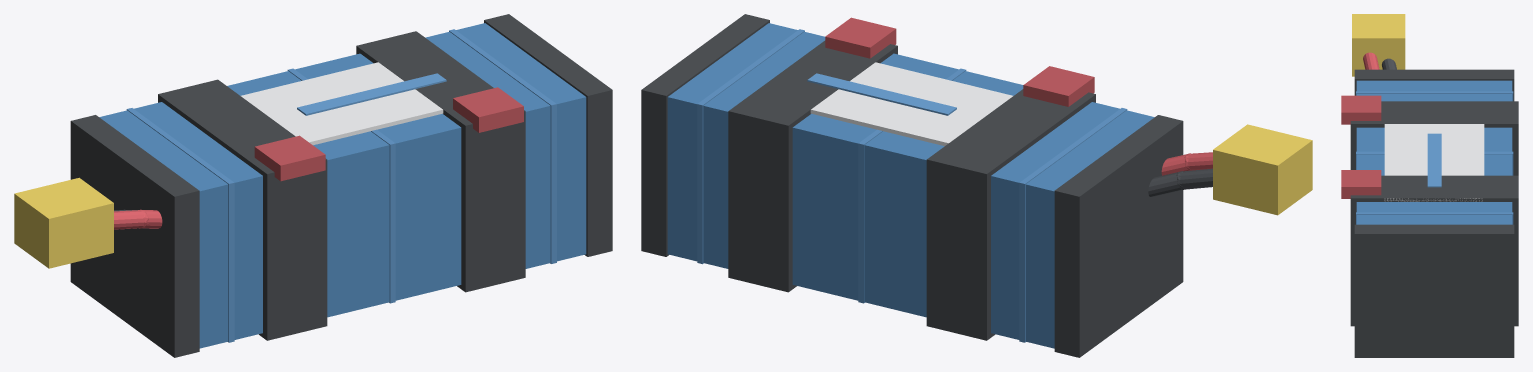
Rendered from battery_6s_10000.glb.
The picture shows the model from 3 angles, left to right: view 1: azimuth 30°, elevation 25°; view 2: azimuth 150°, elevation 25°; view 3: azimuth 270°, elevation 25°; orthographic projection. The views are drawn at different scales.
Parts seen in each view (by area): view 1: body, rear_cap, strap_0, strap_1, label, xt90_body, front_cap, strap_tab_0, strap_tab_1, cell_rib_0, cell_rib_4, label_stripe (+2 smaller); view 2: body, rear_cap, strap_0, strap_1, label, xt90_body, front_cap, strap_tab_0, strap_tab_1, cell_rib_0, cell_rib_4, label_stripe (+3 smaller); view 3: front_cap, body, strap_1, label, strap_0, xt90_body, rear_cap, strap_tab_0, strap_tab_1, label_stripe, cell_rib_4, cell_rib_0 (+2 smaller).
Part boxes in pixels (box(x1,y1,x2,y2)): body: box(99, 23, 586, 348); rear_cap: box(70, 115, 199, 357); strap_0: box(158, 79, 327, 340); strap_1: box(356, 31, 525, 292); label: box(241, 62, 443, 145); xt90_body: box(14, 177, 113, 268); front_cap: box(484, 14, 612, 256); strap_tab_0: box(254, 135, 325, 181); strap_tab_1: box(453, 87, 523, 132); cell_rib_0: box(126, 108, 234, 342); cell_rib_4: box(449, 29, 556, 263); label_stripe: box(297, 73, 446, 115); body: box(667, 23, 1154, 348); rear_cap: box(1054, 115, 1183, 357); strap_0: box(926, 89, 1095, 340); strap_1: box(728, 40, 897, 292); label: box(810, 62, 1012, 146); xt90_body: box(1213, 124, 1312, 215); front_cap: box(641, 14, 769, 256); strap_tab_0: box(1023, 66, 1094, 106); strap_tab_1: box(825, 17, 896, 58); cell_rib_0: box(1019, 108, 1127, 342); cell_rib_4: box(697, 29, 804, 264); label_stripe: box(807, 73, 956, 115); front_cap: box(1354, 224, 1514, 357); body: box(1356, 80, 1512, 224); strap_1: box(1350, 175, 1518, 326); label: box(1384, 124, 1484, 201); strap_0: box(1350, 101, 1518, 175); xt90_body: box(1352, 14, 1405, 76); rear_cap: box(1354, 69, 1514, 101); strap_tab_0: box(1341, 95, 1381, 124); strap_tab_1: box(1341, 170, 1381, 198); label_stripe: box(1427, 133, 1441, 187); cell_rib_4: box(1356, 212, 1513, 224); cell_rib_0: box(1356, 91, 1513, 101).
Size of the model in its own units: 0.2259 by 0.0678 by 0.0797.
